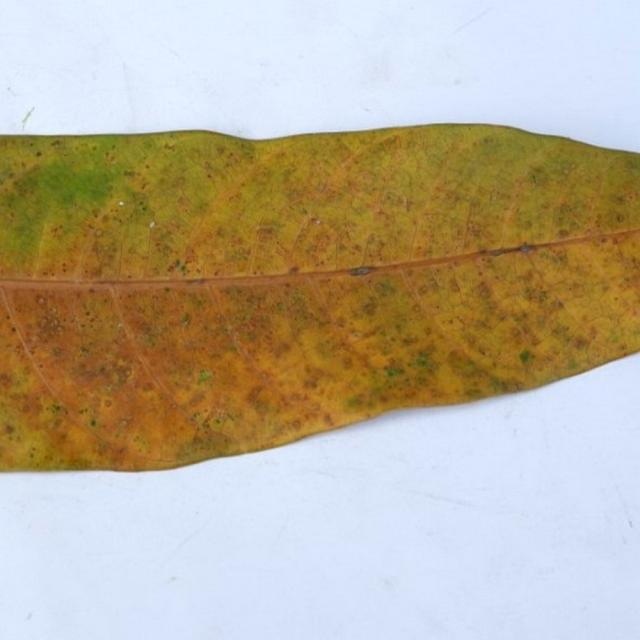Mango: (0, 125, 639, 470)
Powdery_Mildew: (215, 287, 318, 371), (10, 432, 173, 471), (125, 130, 248, 168), (293, 156, 366, 206), (6, 187, 52, 257), (371, 187, 417, 256), (113, 204, 145, 277), (87, 221, 123, 274), (29, 305, 72, 344), (612, 266, 640, 322), (443, 348, 480, 381), (250, 224, 279, 262), (552, 200, 585, 232), (609, 238, 635, 278), (512, 319, 543, 349), (308, 229, 333, 264), (451, 261, 474, 296), (202, 420, 236, 443), (379, 358, 409, 383), (485, 243, 537, 257), (144, 220, 157, 273), (364, 235, 387, 262), (108, 362, 133, 385), (225, 245, 251, 266), (366, 350, 394, 369), (539, 248, 567, 267), (206, 407, 232, 427), (181, 243, 200, 270), (608, 230, 634, 249), (373, 280, 397, 300), (255, 221, 282, 238), (380, 134, 405, 152), (246, 384, 267, 405), (429, 269, 449, 290), (476, 280, 495, 301), (465, 220, 483, 241), (572, 334, 590, 351), (412, 353, 431, 368), (346, 396, 365, 410), (362, 300, 378, 316), (448, 276, 462, 294), (172, 258, 188, 273), (518, 349, 533, 364), (197, 369, 212, 383), (348, 330, 367, 341), (403, 195, 413, 214), (350, 267, 371, 276), (529, 172, 542, 185), (418, 283, 432, 295), (489, 248, 506, 256), (537, 291, 548, 303), (4, 423, 15, 435), (616, 195, 629, 205), (180, 313, 190, 325), (163, 142, 176, 151), (50, 139, 64, 147), (50, 403, 61, 413), (191, 277, 206, 284), (123, 170, 136, 178), (520, 244, 533, 252), (337, 241, 347, 251), (558, 229, 570, 237), (616, 213, 625, 223), (103, 399, 113, 408), (599, 236, 608, 244), (289, 266, 299, 273), (478, 247, 488, 254), (140, 204, 148, 212), (120, 420, 128, 427), (170, 404, 178, 411), (214, 418, 221, 425), (213, 268, 220, 275), (38, 297, 45, 304), (90, 419, 96, 427), (88, 287, 96, 293), (35, 151, 42, 157), (285, 281, 292, 287), (95, 230, 102, 236), (226, 326, 232, 332), (150, 221, 155, 228), (315, 219, 321, 224), (85, 310, 90, 315), (11, 327, 16, 332), (119, 201, 124, 206), (615, 297, 620, 301), (117, 325, 121, 329)
